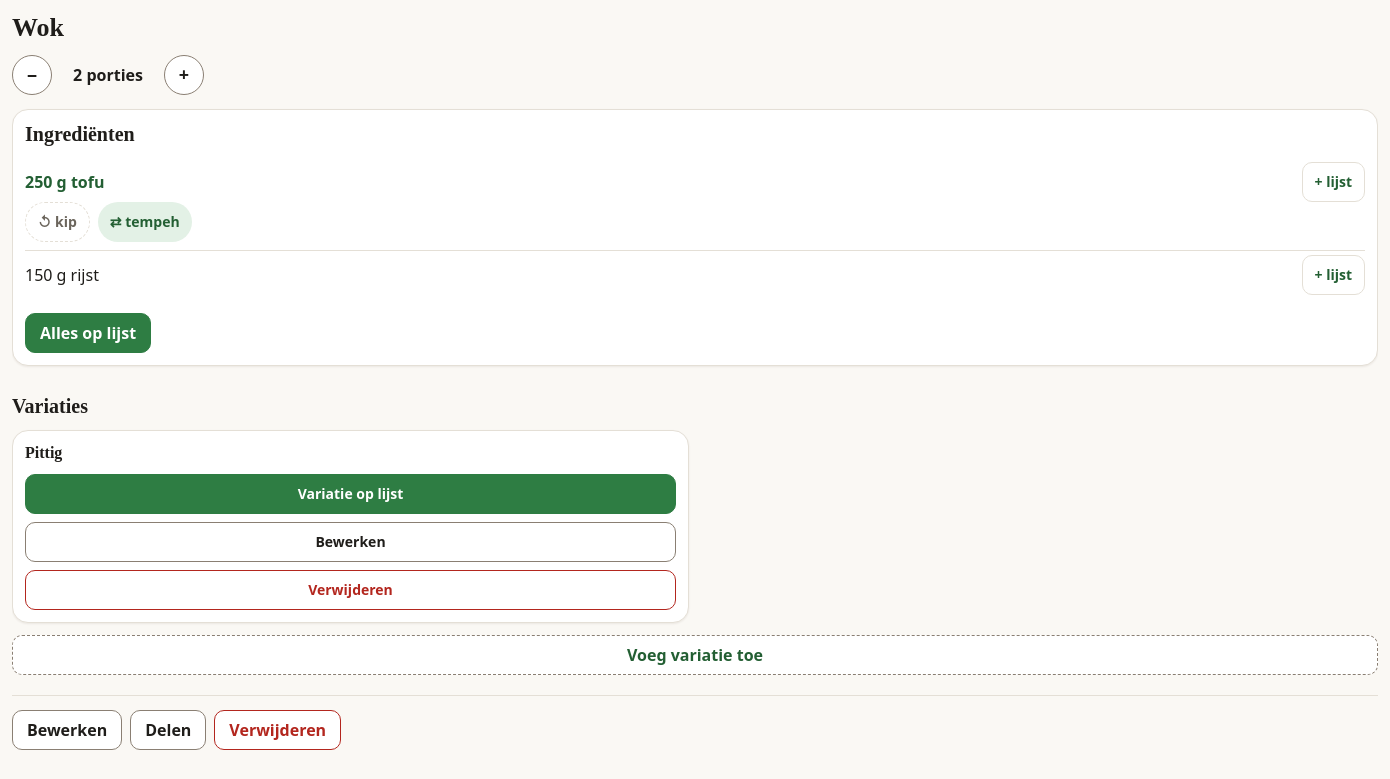
it: ingrediënt wisselen op de receptpagina › een link met ?wissel= laat de wissel meteen zien (herladen), en schaalt mee
The width and height of the screenshot is (1390, 779).
Click the button named "Meer porties" at (184, 75), box 164,55 -> 204,95
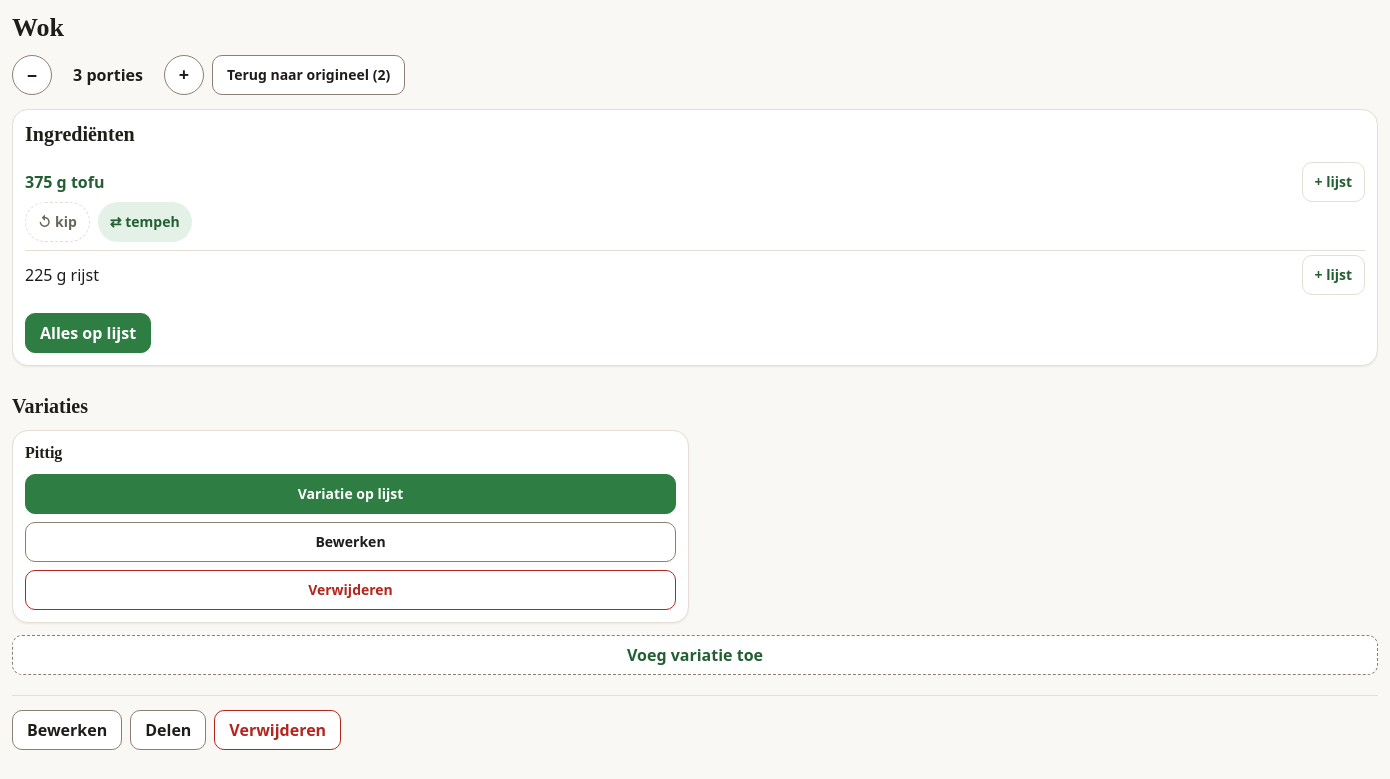
Now the text with class "line" reads "375 g tofu", box 25,171 -> 104,193
